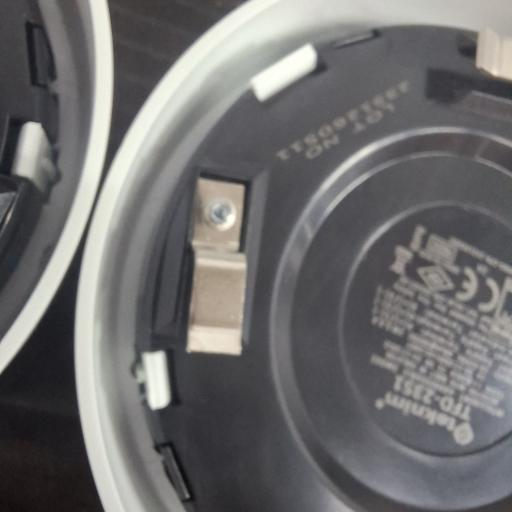yaysiz: (178, 170, 267, 372)
